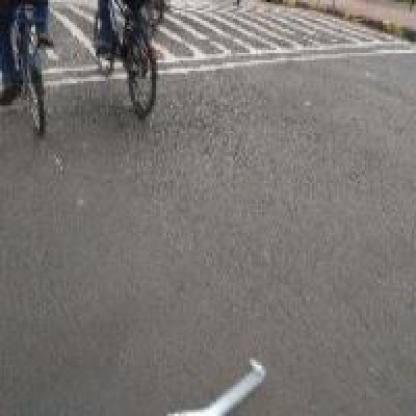Speed Bump: (179, 4, 410, 71), (42, 0, 98, 81)
